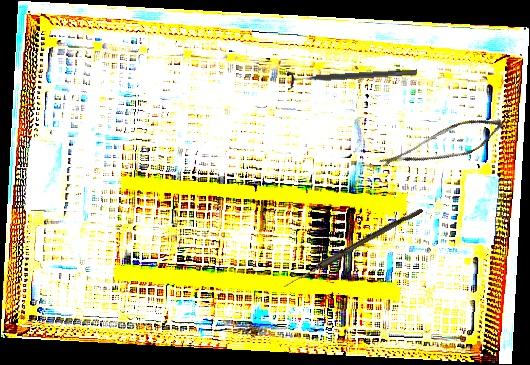Fixation Ring: (286, 62, 418, 92)
Micro Scissor: (378, 98, 508, 195)
Surgical Spoon: (281, 204, 424, 292)
